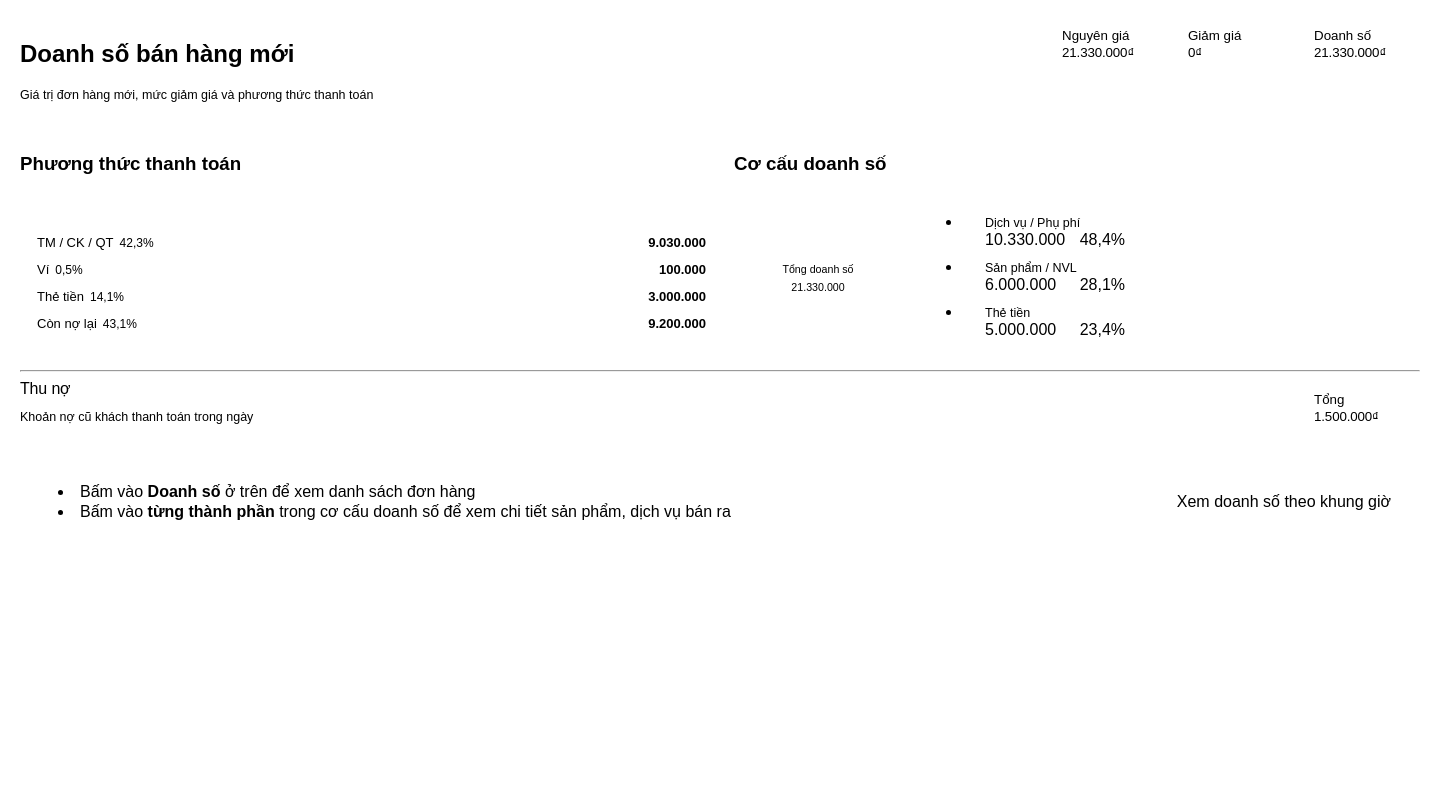
Test: Tổng quan cơ sở – các phần › bấm ô Nguyên giá / Giảm giá / Doanh số: mở popup danh sách đơn hàng mới
The width and height of the screenshot is (1440, 810).
Click the button "Doanh số 21.330.000₫" at (1360, 44), box [1300, 20, 1420, 69]
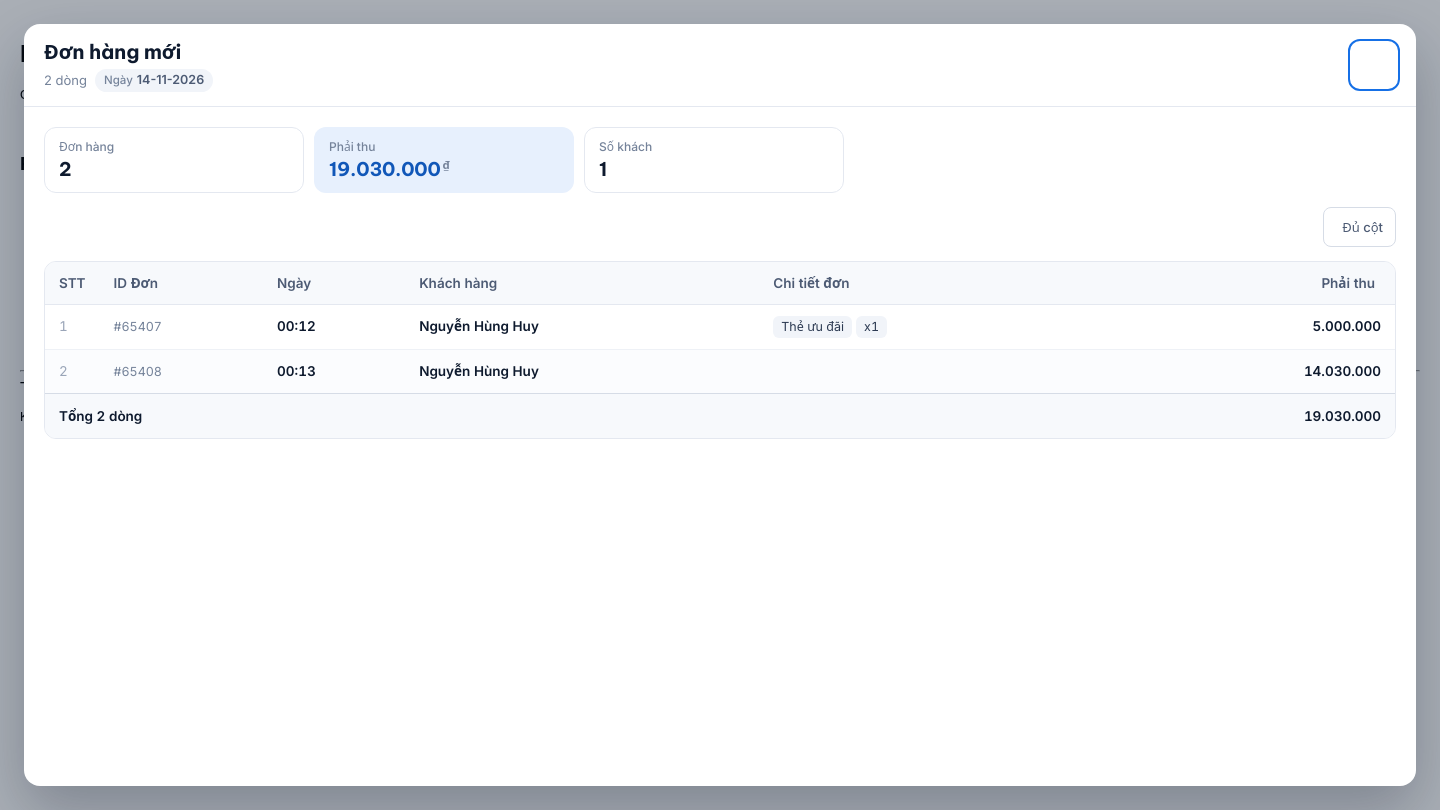
Result: the text "2 dòng" is shown at [44, 71, 87, 90]
Result: the element with class "so-pop__meta" shows "14-11-2026" at [137, 72, 204, 87]
// Esc đóng popup
Press Escape
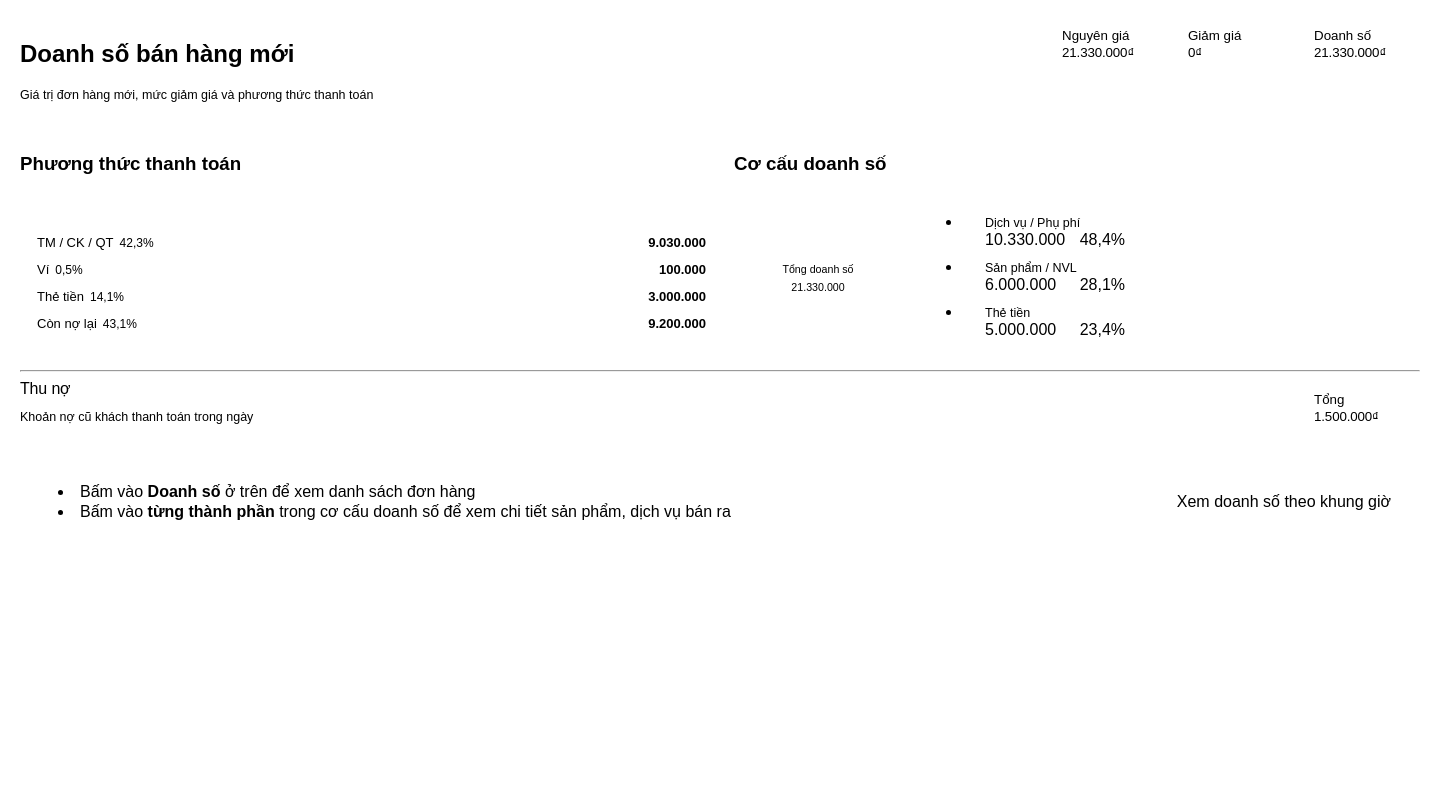
Result: the dialog is gone
// ô Giảm giá cũng mở popup
Click the button "Giảm giá 0₫" at (1234, 44), box [1174, 20, 1294, 69]
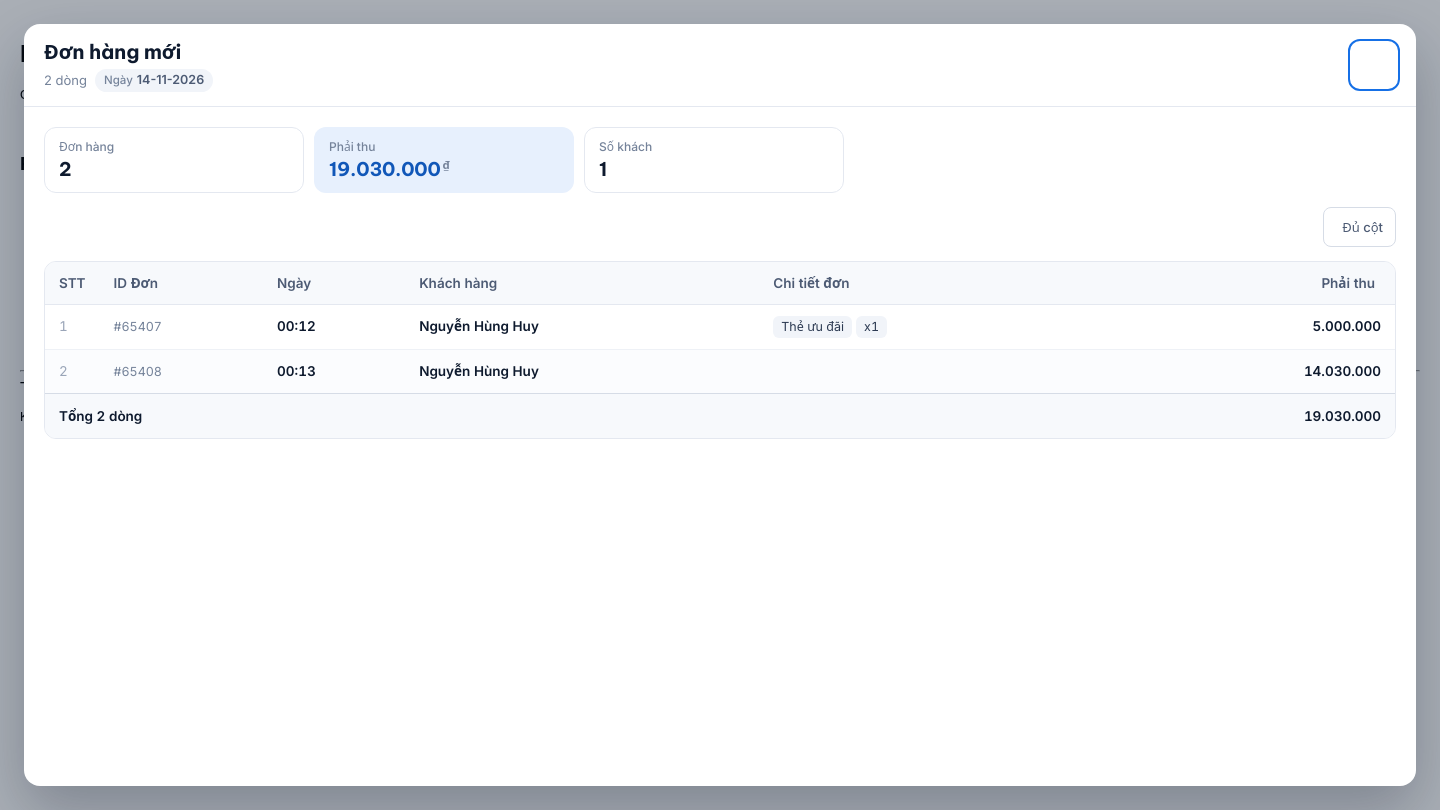
Result: the dialog is shown
Click the button named "Đóng" at (1374, 65), box [1352, 43, 1396, 87]
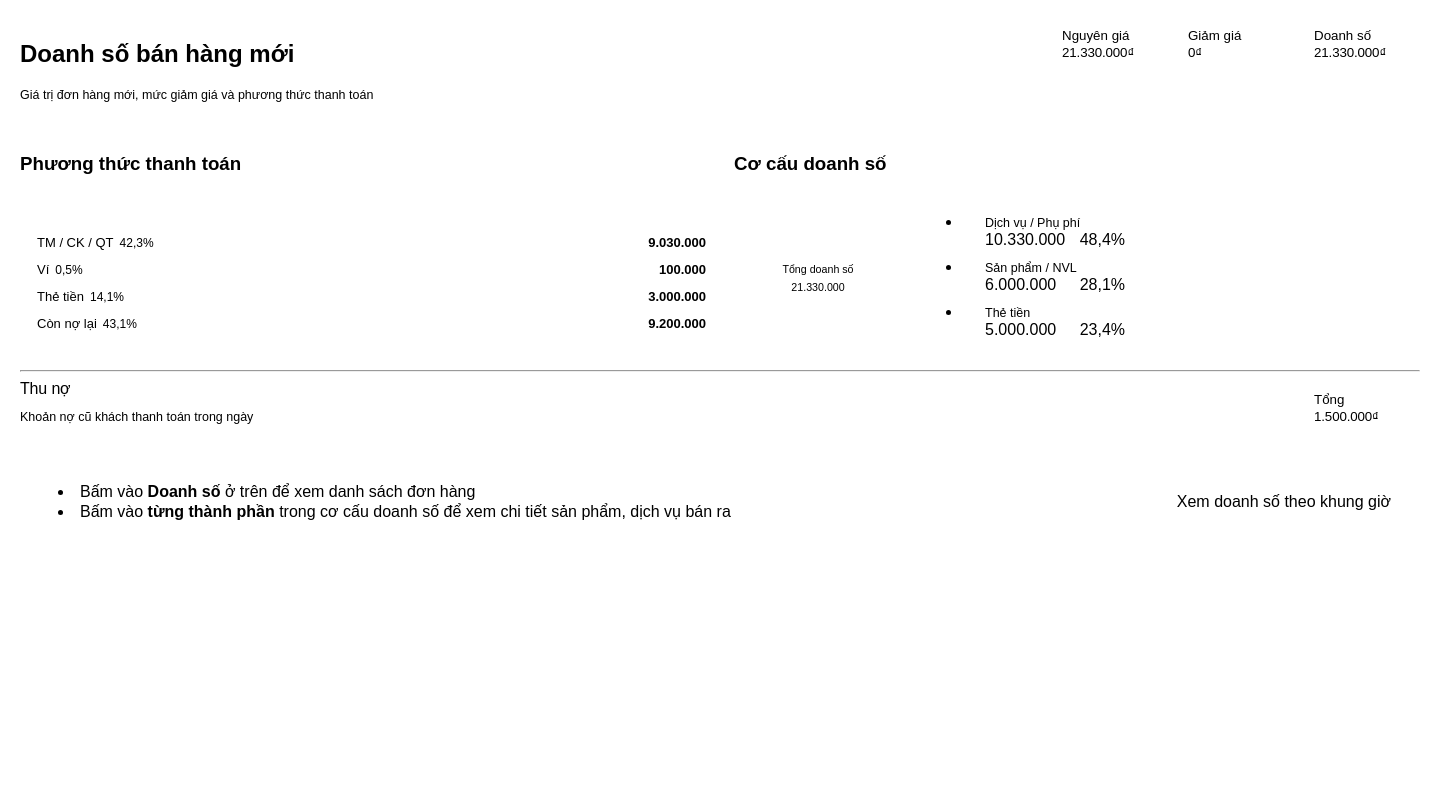
Result: the dialog is gone
